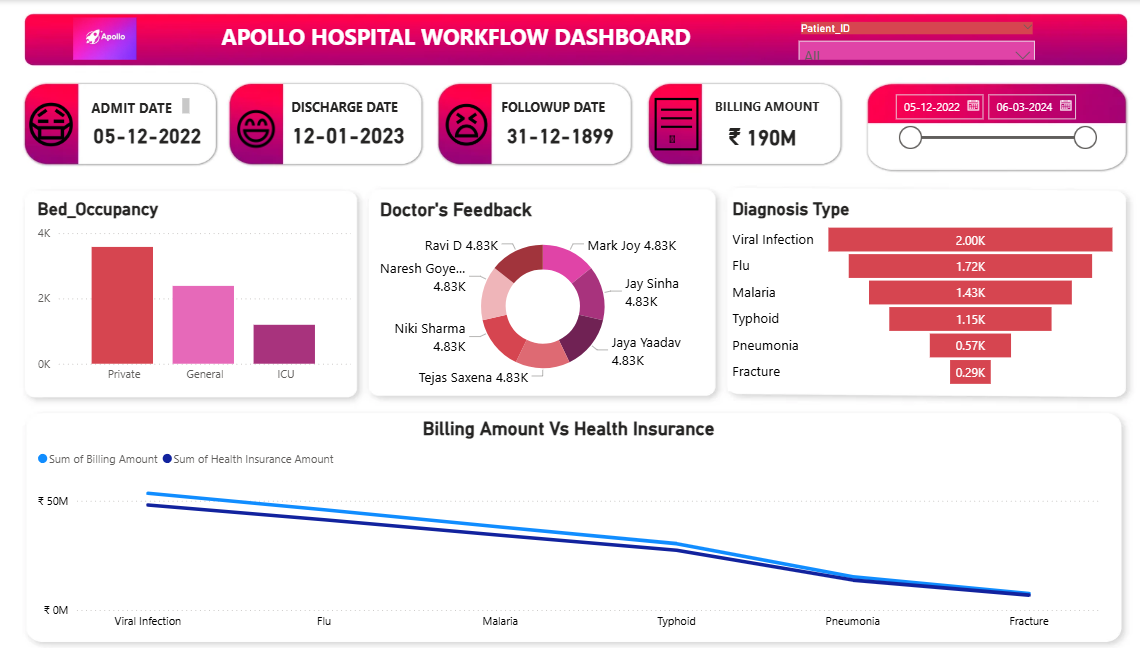

What the dashboard file says about the page in this screenshot:
{"tool":"powerbi","page":{"name":"Page 1","canvas":[1280,720],"ordinal":0},"visuals":[{"type":"image","box":[0,19.2,245.6,46.7],"z":0},{"type":"textbox","box":[245.6,19.2,857.6,42.5],"z":1000},{"type":"slicer","fields":{"Values":["Sheet1.Patient_ID"]},"box":[874.1,19.2,279.9,46.7],"z":2000},{"type":"textbox","box":[102.9,102.9,118,27.4],"z":3000},{"type":"card","fields":{"Values":["Min(Sheet1.Admit_Date)"]},"box":[102.9,130.4,133.1,37],"z":4000},{"type":"textbox","box":[322.5,102.9,135.8,46.7],"z":5000},{"type":"card","fields":{"Values":["Min(Sheet1.Discharge_Date)"]},"box":[322.5,130.4,135.8,37],"z":6000},{"type":"textbox","box":[553,102.9,140,46.7],"z":7000},{"type":"card","fields":{"Values":["Min(Sheet1.followup date)"]},"box":[553,130.4,140,37],"z":8000},{"type":"textbox","box":[787.7,102.9,130.4,27.4],"z":9000},{"type":"card","fields":{"Values":["Sum(Sheet1.Billing Amount)"]},"box":[787.7,134.5,113.9,32.9],"z":10000},{"type":"slicer","fields":{"Values":["Sheet1.Admit_Date"]},"box":[978.4,93.3,241.5,85.1],"z":11000},{"type":"columnChart","title":"Bed_Occupancy ","fields":{"Category":["Sheet1.Bed_Occupancy"],"Y":["CountNonNull(Sheet1.Bed_Occupancy)"]},"box":[43.9,218.2,354,211.3],"z":12000},{"type":"donutChart","title":" Doctor''s Feedback","fields":{"Y":["Sum(Sheet1.Feedback)"],"Category":["Sheet1.Doctor"]},"box":[419.9,218.2,367.8,211.3],"z":13000},{"type":"funnel","title":"Diagnosis Type","fields":{"Category":["Sheet1.Diagnosis"],"Y":["CountNonNull(Sheet1.Diagnosis)"]},"box":[806.9,218.2,432.2,211.3],"z":14000},{"type":"lineChart","title":"Billing Amount Vs Health Insurance","fields":{"Y":["Sum(Sheet1.Billing Amount)","Sum(Sheet1.Health Insurance Amount)"],"Category":["Sheet1.Diagnosis"]},"box":[43.9,458.3,1176,241.5],"z":15000},{"type":"image","box":[311.5,93.3,417.2,74.1],"z":16000},{"type":"image","box":[255.2,93.3,67.2,85.1],"z":17000},{"type":"image","box":[13.7,42.5,100.2,175.6],"z":18000},{"type":"image","box":[712.2,93.3,75.5,85.1],"z":19000}]}

Visuals, with their boxes in screenshot pixels (x1, y1, x2, y2), scaled from the page's 1280x720 canvas onto the 1140x648 screenshot:
image: 0 17 219 59
textbox: 219 17 983 56
slicer - Sheet1.Patient_ID: 778 17 1028 59
textbox: 92 93 197 117
card - Min(Sheet1.Admit_Date): 92 117 210 151
textbox: 287 93 408 135
card - Min(Sheet1.Discharge_Date): 287 117 408 151
textbox: 493 93 617 135
card - Min(Sheet1.followup date): 493 117 617 151
textbox: 702 93 818 117
card - Sum(Sheet1.Billing Amount): 702 121 803 151
slicer - Sheet1.Admit_Date: 871 84 1086 161
"Bed_Occupancy " columnChart: 39 196 354 387
" Doctor''s Feedback" donutChart: 374 196 702 387
"Diagnosis Type" funnel: 719 196 1104 387
"Billing Amount Vs Health Insurance" lineChart: 39 412 1086 630
image: 277 84 649 151
image: 227 84 287 161
image: 12 38 101 196
image: 634 84 702 161
